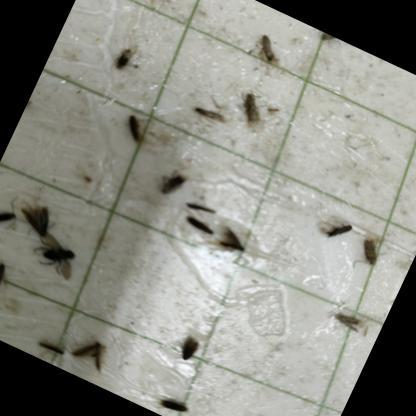prays_oleae: (59, 316, 122, 386), (30, 222, 90, 286), (226, 76, 282, 139), (11, 184, 64, 247), (209, 216, 258, 271), (148, 153, 192, 209), (348, 224, 392, 278), (165, 326, 207, 382), (328, 304, 372, 350), (99, 37, 139, 82), (316, 213, 356, 253), (186, 98, 228, 136), (118, 110, 154, 148), (179, 212, 216, 248), (251, 30, 283, 70), (150, 388, 194, 416), (34, 332, 70, 364), (311, 29, 344, 54), (0, 252, 17, 298), (0, 199, 21, 235), (142, 0, 179, 8)
